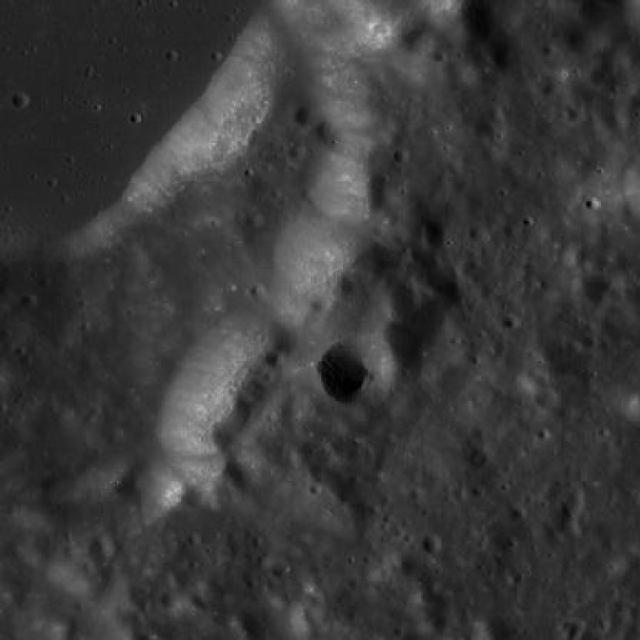crater: (0, 0, 258, 275), (386, 303, 468, 380), (320, 336, 400, 410), (462, 0, 524, 43), (491, 36, 526, 70), (426, 220, 460, 253), (404, 28, 436, 58), (90, 540, 116, 565), (538, 74, 564, 98), (314, 120, 340, 143), (294, 105, 320, 128), (264, 556, 287, 578), (531, 384, 554, 406), (162, 593, 184, 613), (312, 294, 334, 314), (606, 112, 628, 132), (266, 348, 286, 367), (423, 535, 443, 554), (566, 106, 586, 125), (568, 493, 586, 512), (477, 122, 495, 140), (394, 148, 412, 166), (559, 519, 578, 536), (12, 93, 31, 110), (562, 504, 580, 521), (470, 225, 488, 242), (570, 619, 587, 636), (22, 292, 38, 310), (488, 108, 506, 124), (504, 314, 521, 330), (247, 214, 264, 228)
